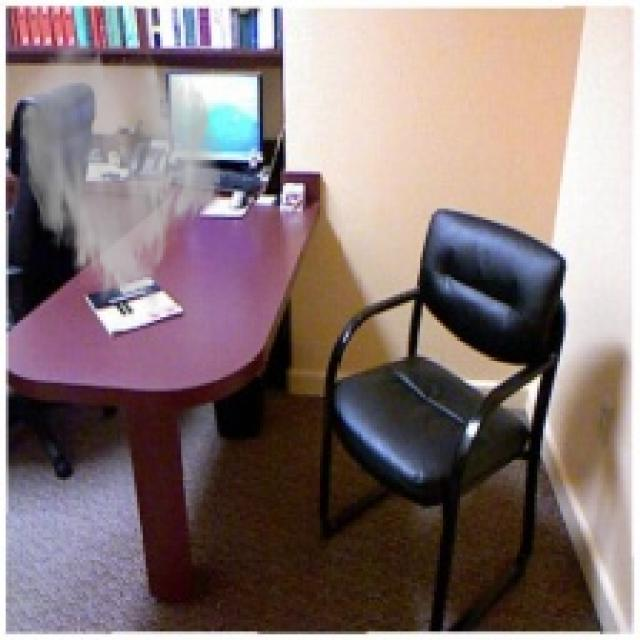smoke: (17, 37, 226, 314)
